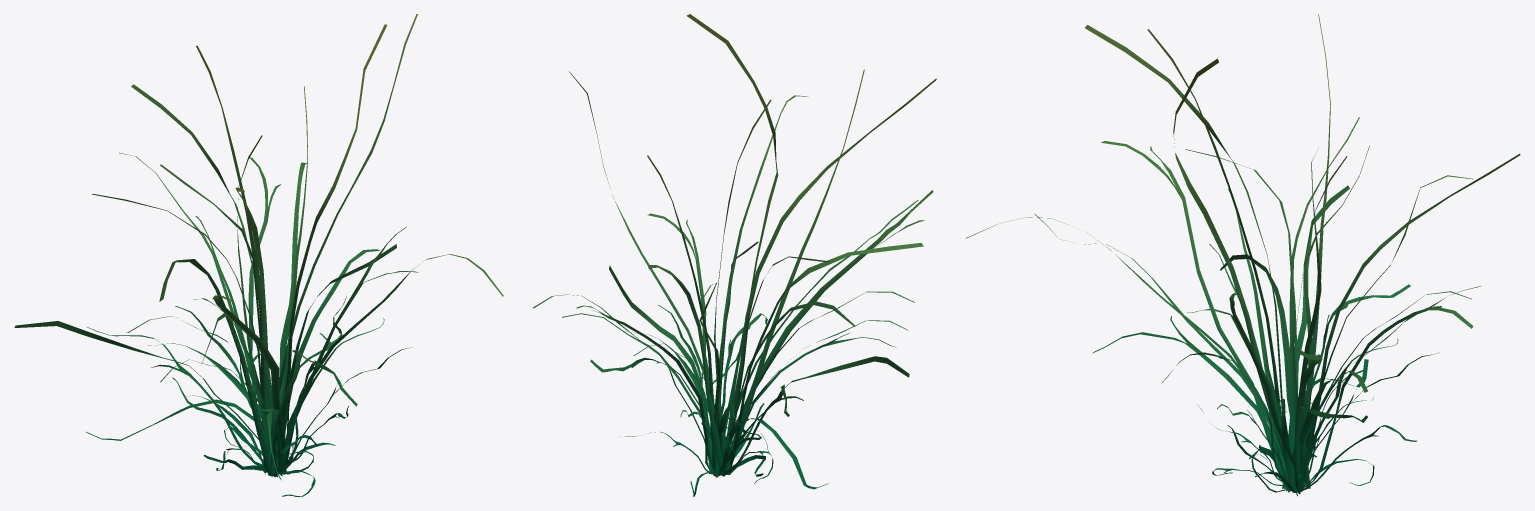
Rendered from grass_medium_02_4.glb.
3 views of the same model, side by side, from view 1: azimuth 30°, elevation 25°; view 2: azimuth 150°, elevation 25°; view 3: azimuth 270°, elevation 25° (orthographic). The views are drawn at different scales.
Parts seen in each view (by area): view 1: grass_medium_02_e; view 2: grass_medium_02_e; view 3: grass_medium_02_e.
Part boxes in pixels (box(x1,y1,x2,y2)): grass_medium_02_e: box(14, 14, 503, 496); grass_medium_02_e: box(532, 14, 936, 496); grass_medium_02_e: box(965, 14, 1520, 495).
Size of the model in its own units: 0.3556 by 0.4032 by 0.4332.
